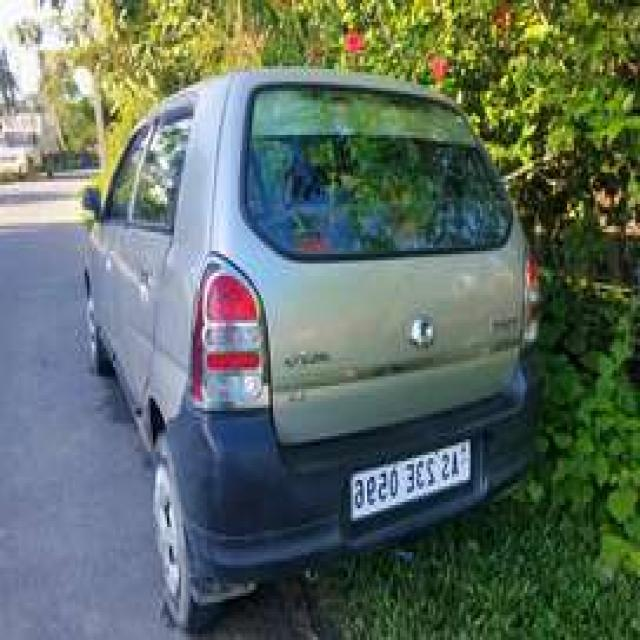license_plate: (344, 430, 473, 522)
